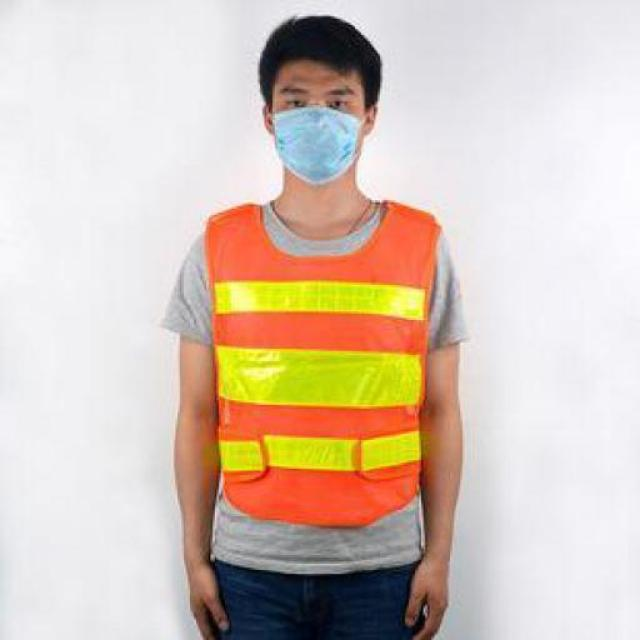face_nomask: (270, 82, 370, 183)
hand_noglove: (173, 551, 232, 640), (398, 560, 458, 640)
head_nohelmet: (250, 0, 384, 89)
person: (153, 11, 471, 640)
vest: (200, 190, 440, 535)
